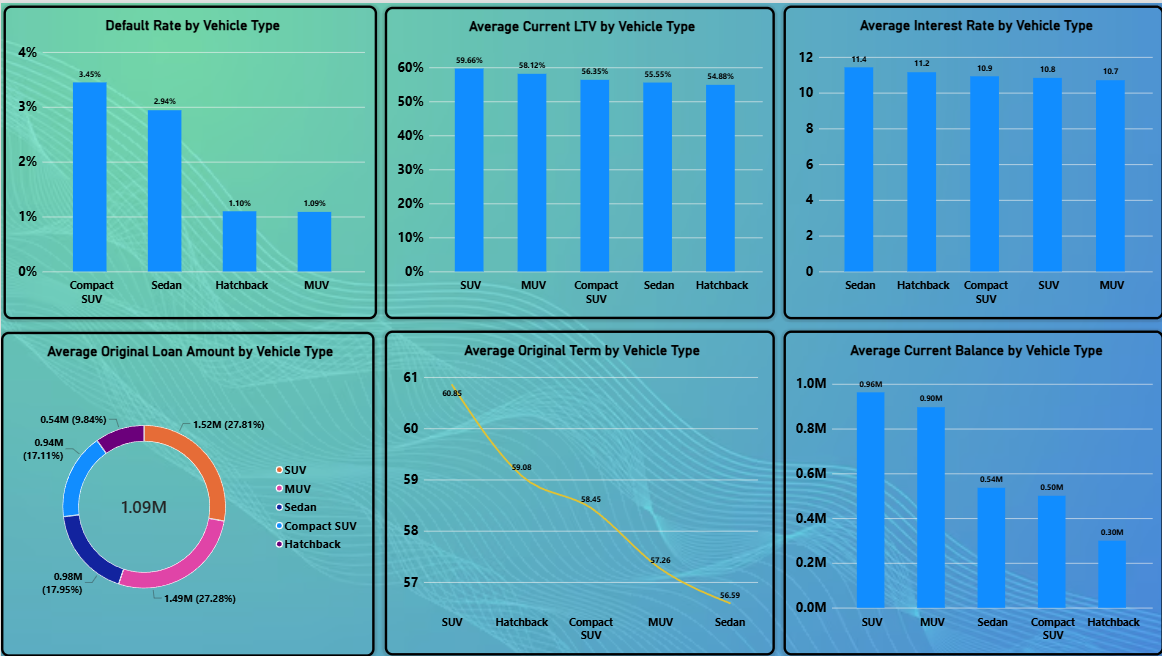

Layout of this report page (visuals, bound fields, positions):
{"tool":"powerbi","page":{"name":"Loan Characteristics & Delinquency","canvas":[1920,1080],"ordinal":8},"visuals":[{"type":"clusteredColumnChart","title":"Default Rate by Loan Purpose","fields":{"Category":["Loan.LoanPurpose"],"Y":["Measures (2).Default Rate"]},"box":[2.1,2.1,631.9,520.8],"z":0},{"type":"clusteredColumnChart","title":"Average Interest Rate by Loan Purpose","fields":{"Category":["Loan.LoanPurpose"],"Y":["Avg(Loan.InterestRate)"]},"box":[646.3,4.1,631.9,518.7],"z":1000},{"type":"clusteredColumnChart","title":"Average Current LTV by Loan Purpose","fields":{"Category":["Loan.LoanPurpose"],"Y":["Avg(Loan.LTV_Current)"]},"box":[1288.5,4.1,629.8,518.7],"z":2000},{"type":"clusteredColumnChart","title":"Average Original Loan Amount by Loan Purpose","fields":{"Category":["Loan.LoanPurpose"],"Y":["Avg(Loan.OriginalLoanAmount)"]},"box":[4.1,539.3,631.9,537.2],"z":3000},{"type":"clusteredColumnChart","title":"Average Original Term by Loan Purpose","fields":{"Category":["Loan.LoanPurpose"],"Y":["Avg(Loan.OriginalTerm)"]},"box":[646,539,632,537],"z":4000},{"type":"clusteredColumnChart","title":"Average Current Balance by Loan Purpose","fields":{"Category":["Loan.LoanPurpose"],"Y":["Avg(Loan.CurrentBalance)"]},"box":[1289,539,630,537],"z":5000}]}

Visuals, with their boxes in screenshot pixels (x1, y1, x2, y2), scaled from the page's 1920x1080 canvas onto the 1162x656 screenshot:
"Default Rate by Loan Purpose" clusteredColumnChart: detection(1, 1, 384, 318)
"Average Interest Rate by Loan Purpose" clusteredColumnChart: detection(391, 2, 774, 318)
"Average Current LTV by Loan Purpose" clusteredColumnChart: detection(780, 2, 1161, 318)
"Average Original Loan Amount by Loan Purpose" clusteredColumnChart: detection(2, 328, 385, 654)
"Average Original Term by Loan Purpose" clusteredColumnChart: detection(391, 327, 773, 654)
"Average Current Balance by Loan Purpose" clusteredColumnChart: detection(780, 327, 1161, 654)
